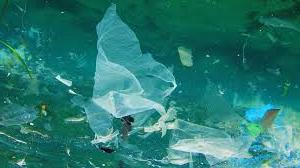Trash: (89, 3, 181, 126)
